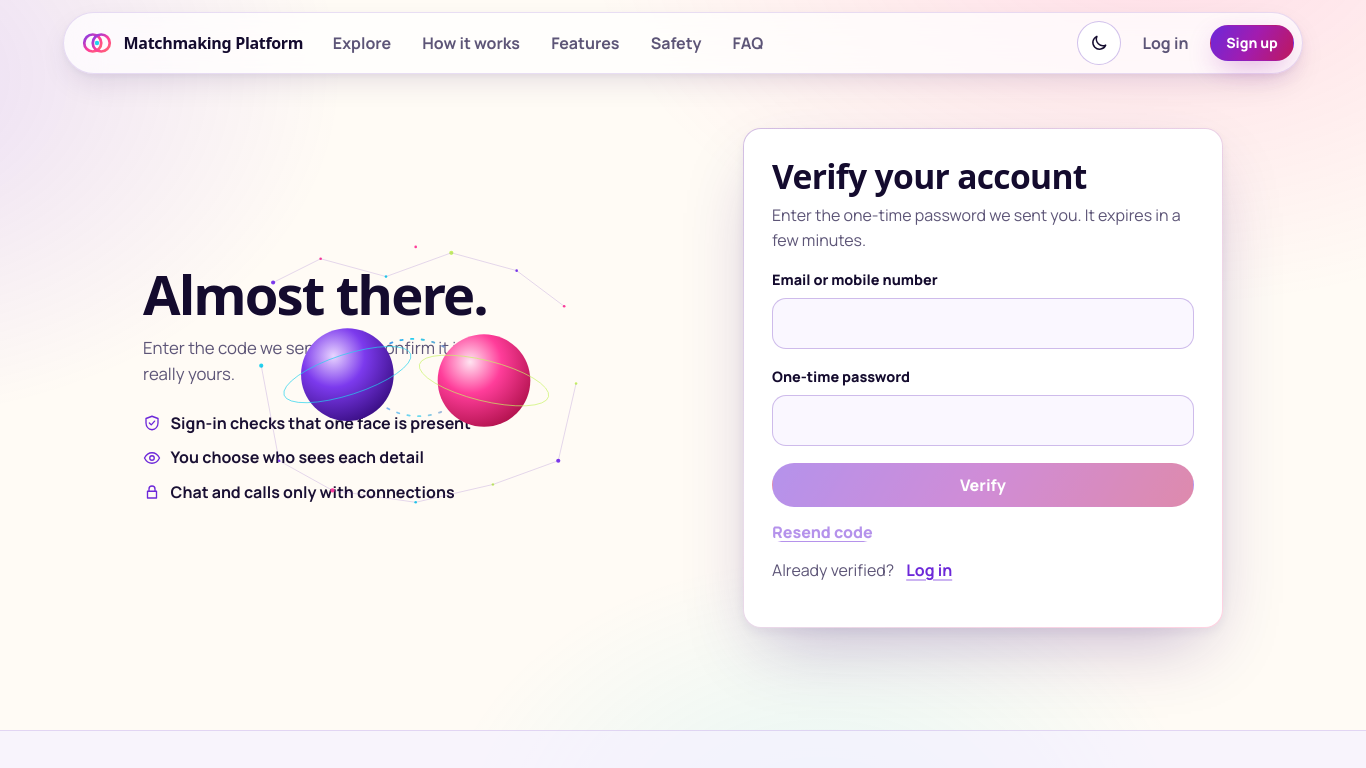
OTP verification page › verifies the account and sends the user to login
Type "asha@example.com" into the field labelled "Email or mobile number". click: (983, 323)
box: [772,298,1194,348]
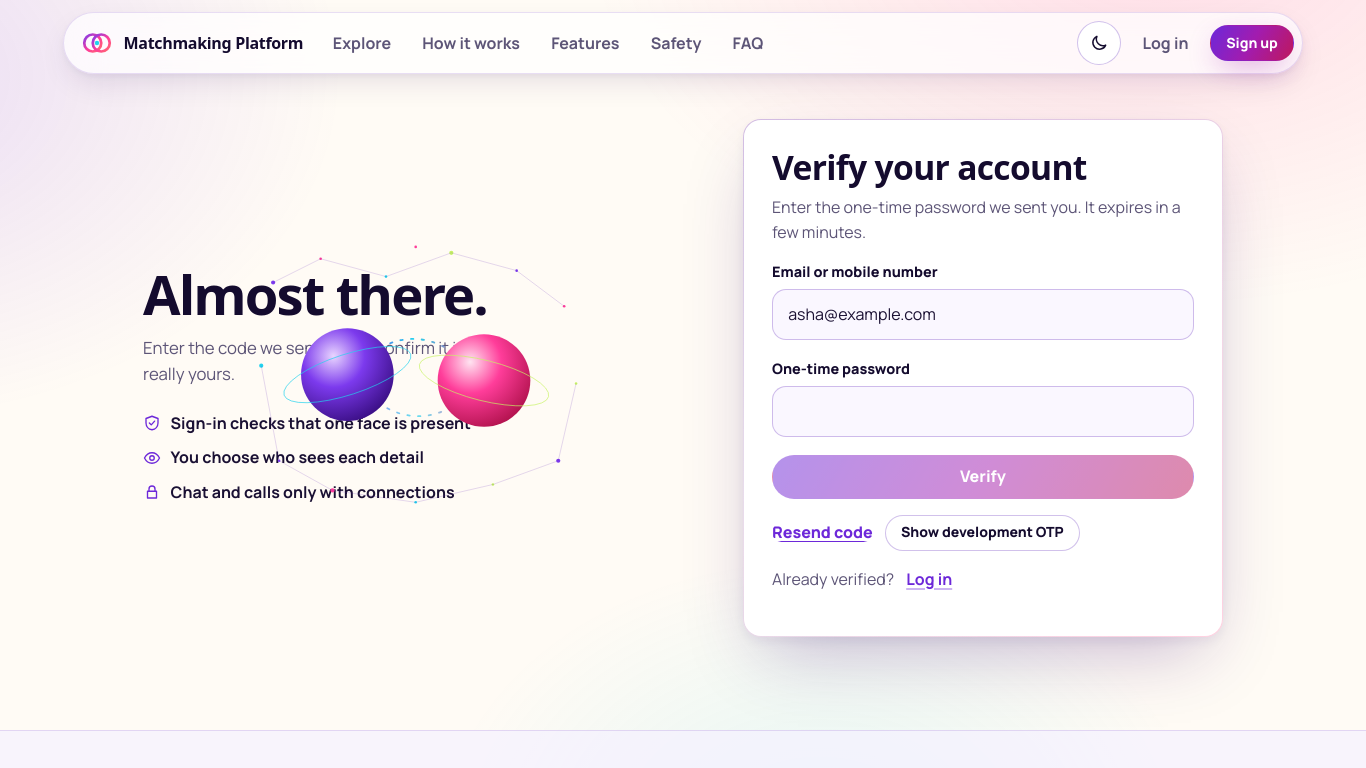
Type "123456" into the field labelled "One-time password". click: (983, 412)
box: [772,386,1194,437]
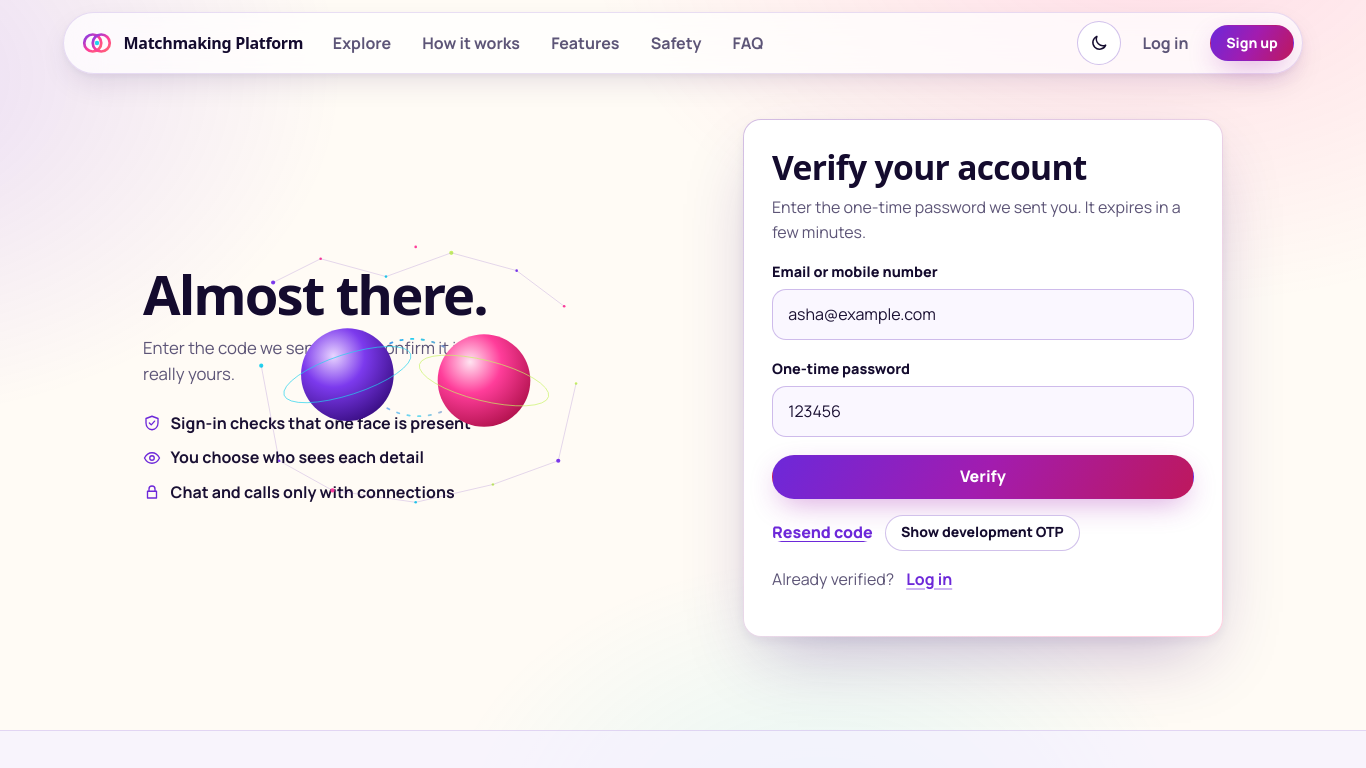
Click the button "Verify". click: (983, 477)
box: [772,455,1194,499]
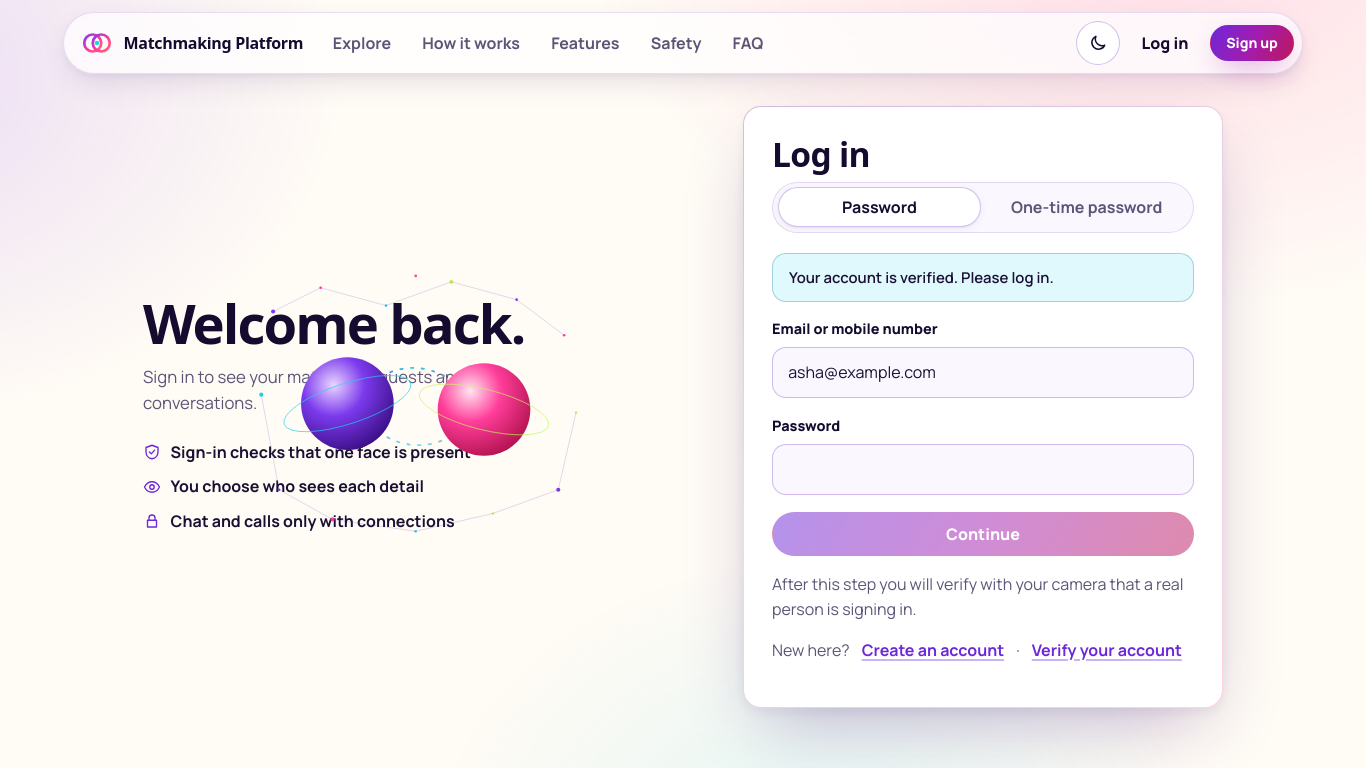
Now the text "Your account is verified. Please log in." is shown, box [772,253,1194,302]
